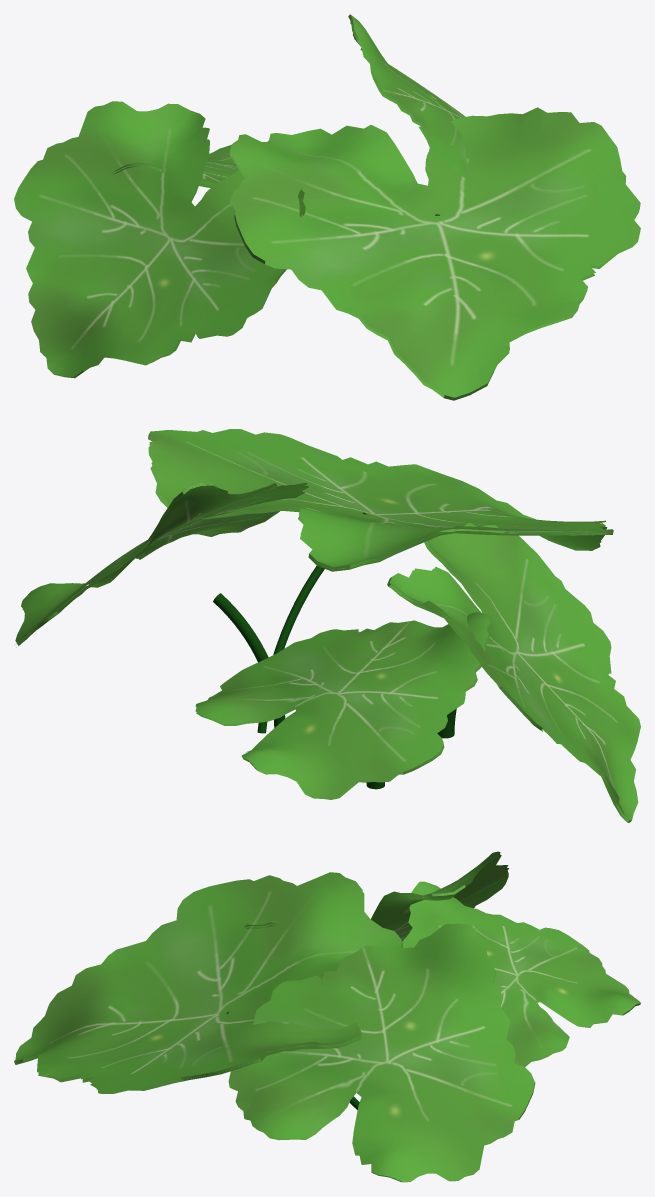
Rendered from 新生長2.FBX.
3 views of the same model, one above another, from view 1: azimuth 30°, elevation 25°; view 2: azimuth 150°, elevation 25°; view 3: azimuth 270°, elevation 25° (orthographic). The views are drawn at different scales.
Visible parts, largest first — view 1: Box003, Box002, Box001, Box004; view 2: Box004, Box002, Box003, Box001, Cylinder003, Cylinder002; view 3: Box001, Box003, Box004, Box002.
Part boxes in pixels (box(x1,y1,x2,y2)): Box003: box(229, 107, 640, 400); Box002: box(14, 101, 305, 378); Box001: box(348, 14, 475, 181); Box004: box(113, 145, 239, 187); Box004: box(195, 612, 490, 799); Box002: box(387, 523, 640, 822); Box003: box(148, 429, 613, 571); Box001: box(15, 482, 308, 647); Cylinder003: box(213, 593, 285, 727); Cylinder002: box(257, 512, 366, 733); Box001: box(228, 923, 535, 1182); Box003: box(14, 872, 402, 1093); Box004: box(402, 881, 640, 1066); Box002: box(244, 851, 508, 941).
Size of the model in its own units: 44.54 by 19.77 by 45.89.
2 materials, 1 textured.
